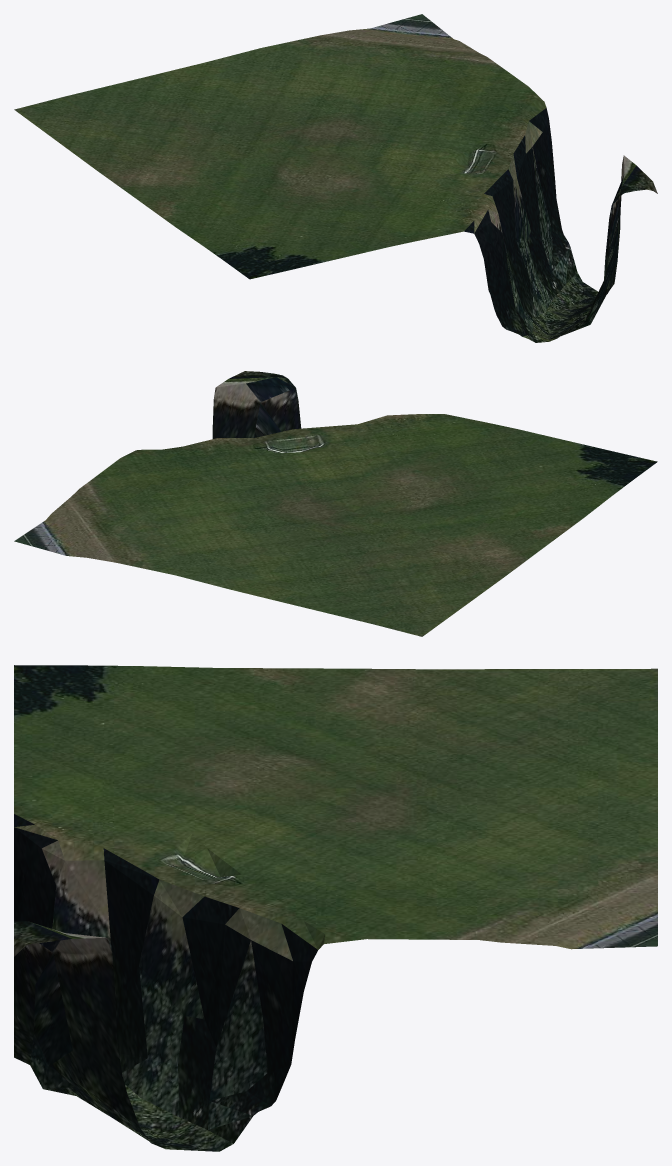
Rendered from map_15_8183_13790.dae.
3 views of the same model, one above another, from view 1: azimuth 30°, elevation 25°; view 2: azimuth 150°, elevation 25°; view 3: azimuth 270°, elevation 25° (orthographic). The views are drawn at different scales.
Parts seen in each view (by area): view 1: Ter0; view 2: Ter0; view 3: Ter0.
Part boxes in pixels (bbox=[...]): Ter0: bbox=[14, 14, 657, 342]; Ter0: bbox=[14, 371, 657, 636]; Ter0: bbox=[14, 665, 657, 1151].
Bounding box in the file's own units: 63.87 × 63.88 × 23.93.
3 materials, 3 textured.
